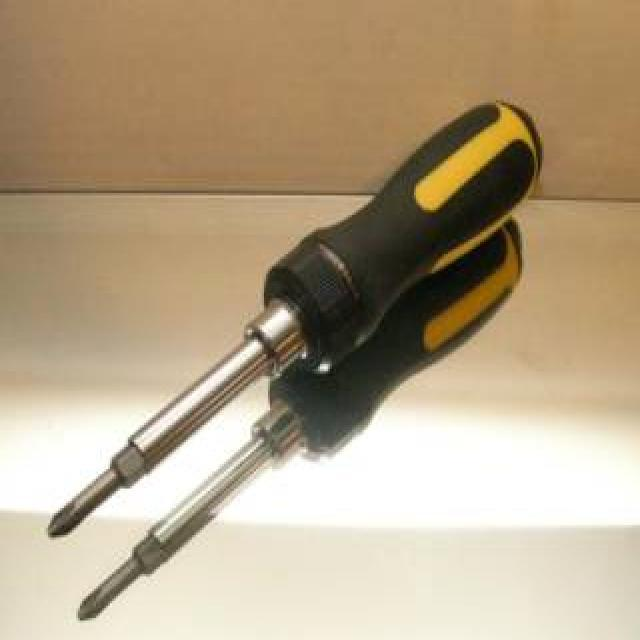screwdriver: (42, 92, 547, 545)
